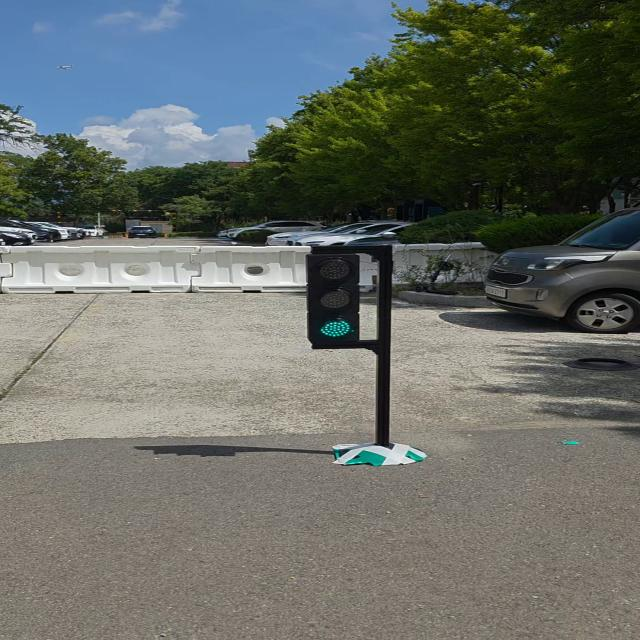green: (311, 251, 368, 347)
